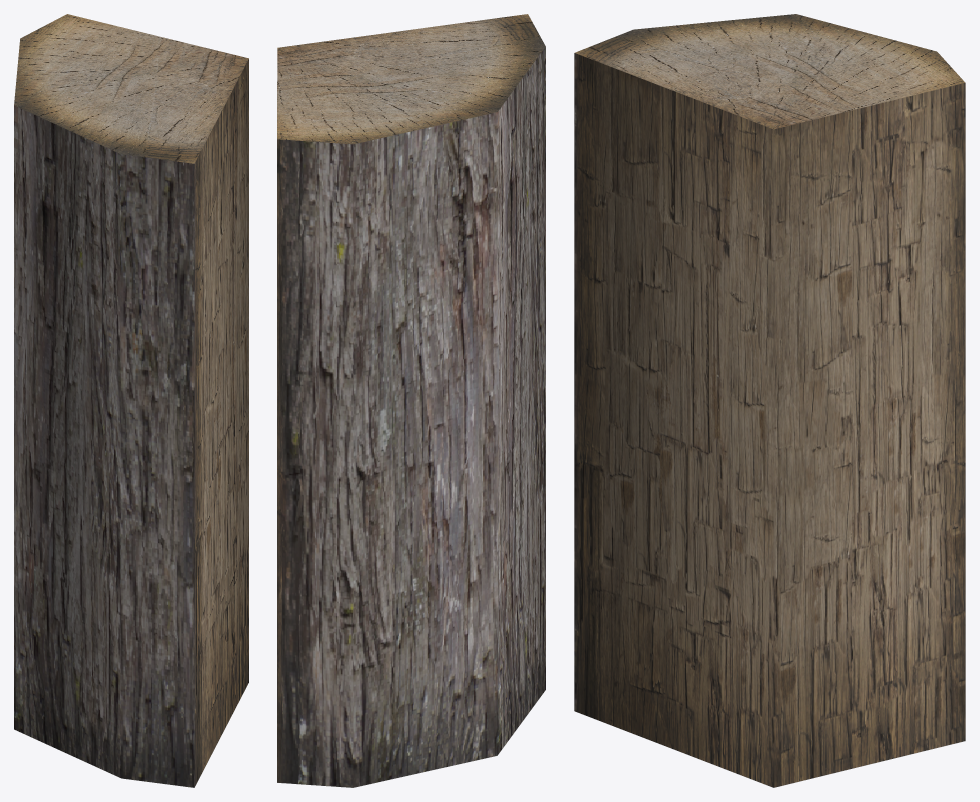
Rendered from log 2.fbx.
The picture shows the model from 3 angles, left to right: view 1: azimuth 30°, elevation 25°; view 2: azimuth 150°, elevation 25°; view 3: azimuth 270°, elevation 25°; orthographic projection. The views are drawn at different scales.
Parts seen in each view (by area): view 1: Cylinder; view 2: Cylinder; view 3: Cylinder.
Boxes of the visible parts, bbox=[...] form: Cylinder: bbox=[14, 14, 248, 787]; Cylinder: bbox=[277, 14, 545, 787]; Cylinder: bbox=[574, 14, 965, 787].
Bounding box in the file's own units: 15.45 × 41.07 × 22.1.
1 material, 1 textured.
